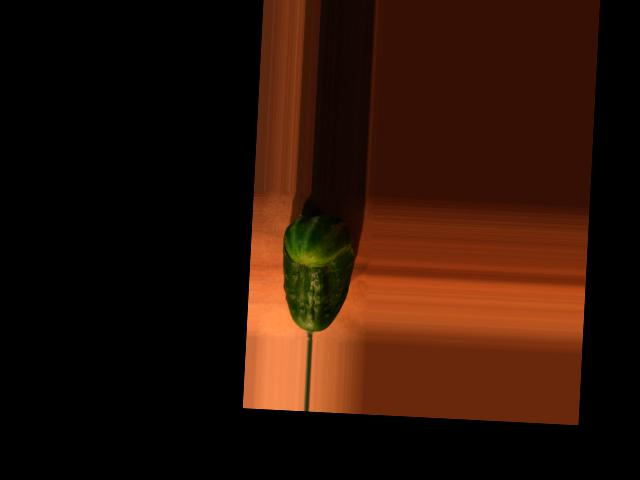cucumber: (277, 213, 355, 334)
